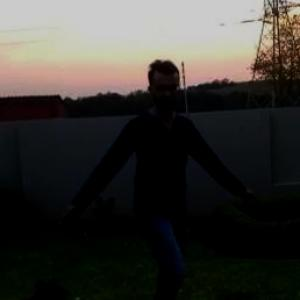land: (80, 67, 240, 299)
